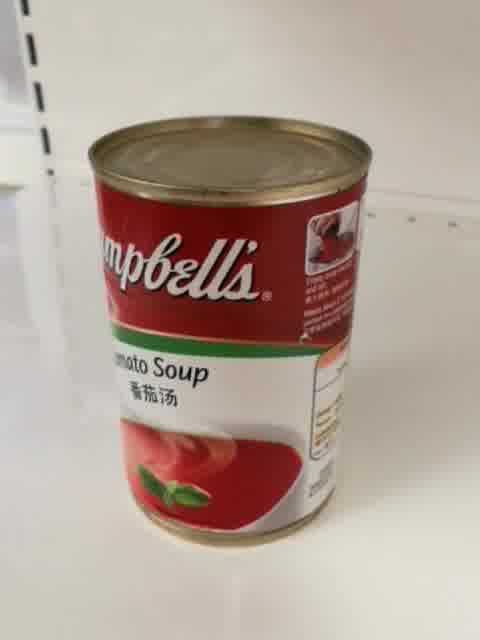tomatosoup: (87, 114, 377, 549)
